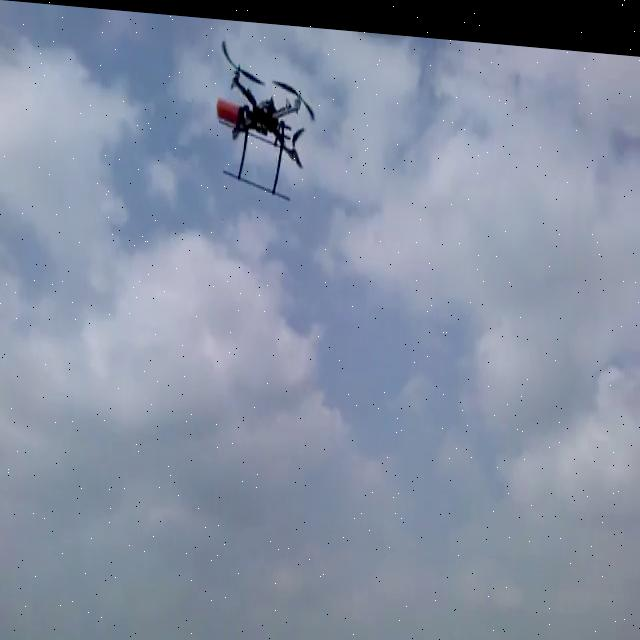drone: (208, 29, 319, 200)
